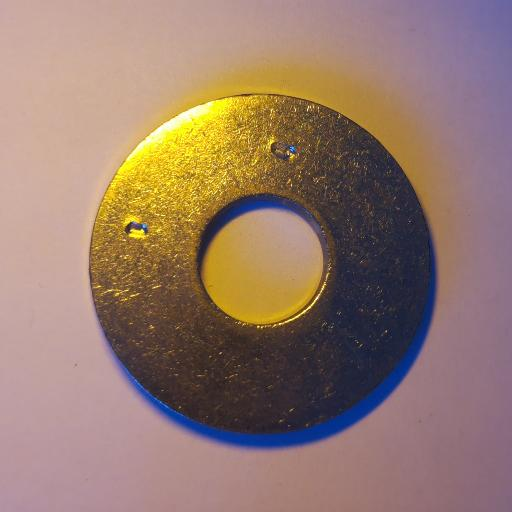circular_cavity: (271, 140, 298, 161), (124, 220, 148, 237)
